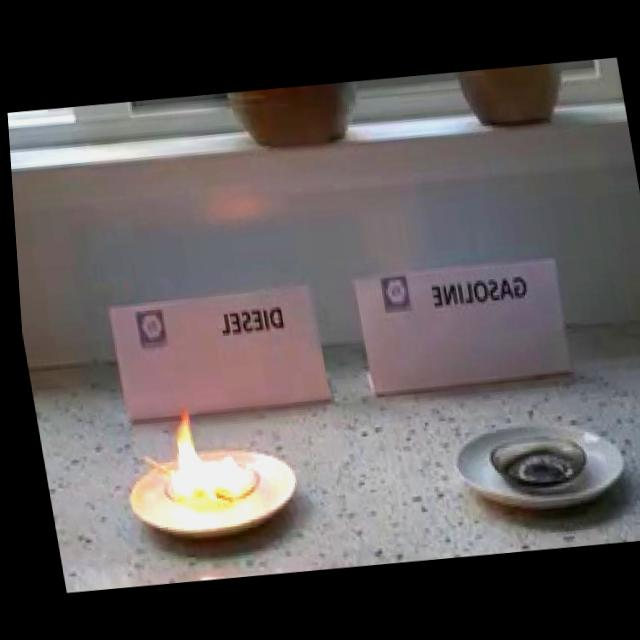helmet: (152, 398, 251, 510)
